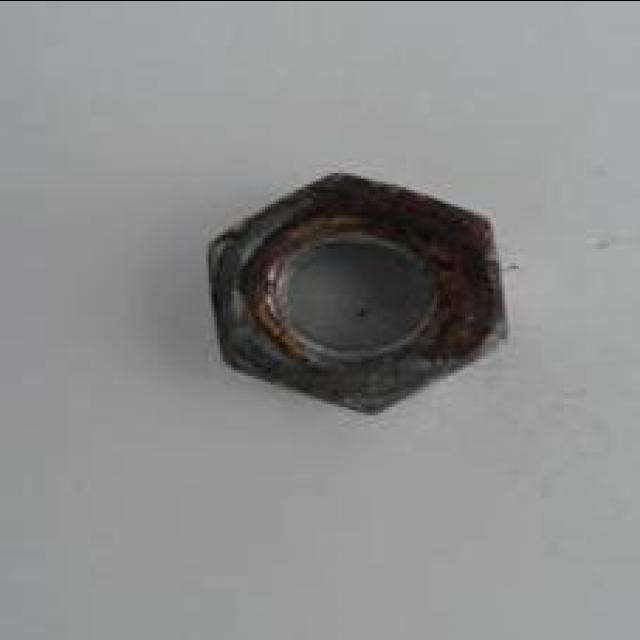ecrouNOK: (202, 164, 514, 428)
